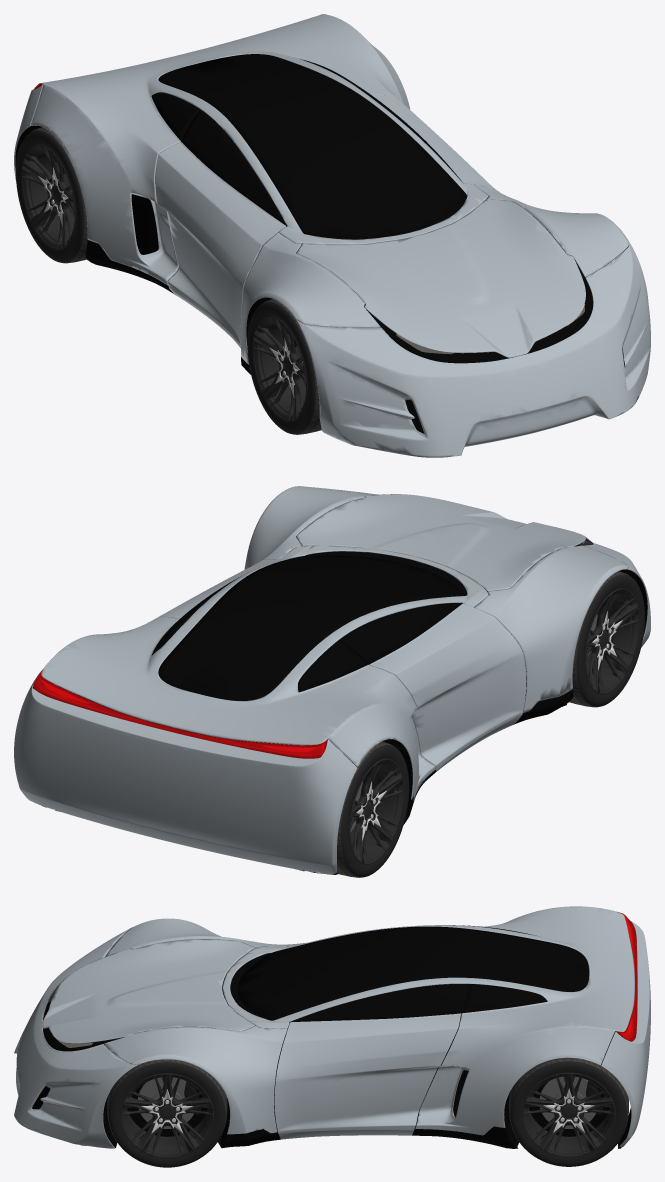
3 renders of one model, top to bottom at view 1: azimuth 30°, elevation 25°; view 2: azimuth 150°, elevation 25°; view 3: azimuth 270°, elevation 25°, orthographic. The views are drawn at different scales.
Parts seen in each view (by area): view 1: Cube.050_body_color_supra.002_0, Cube.046_body_color_supra.002_0, Cube.042_plasticShiny.001_0, Cube.043_body_color_supra.002_0, Cube.047_body_color_supra.002_0, Cube.049_body_color_supra.002_0, Cube.057_plasticShiny.001_0, Cube.039_blockers_0, rim_235.001_rims_0, rim_235.002_rims_0, tire_v001_Coll.001|Mesh5.004|Dupli|_rubber___tires.001_0, tire_v001_Coll.003|Mesh5.004|Dupli|_rubber___tires.001_0 (+2 smaller); view 2: Cube.048_body_color_supra.002_0, Cube.046_body_color_supra.002_0, Cube.042_plasticShiny.001_0, Cube.047_body_color_supra.002_0, Cube.049_body_color_supra.002_0, Cube.043_body_color_supra.002_0, Cube.057_plasticShiny.001_0, rim_235.001_rims_0, rim_235.002_rims_0, Cube.045_taillight_cover_0, tire_v001_Coll.003|Mesh5.004|Dupli|_rubber___tires.001_0, tire_v001_Coll.001|Mesh5.004|Dupli|_rubber___tires.001_0 (+7 smaller); view 3: Cube.046_body_color_supra.002_0, Cube.042_plasticShiny.001_0, Cube.047_body_color_supra.002_0, Cube.043_body_color_supra.002_0, Cube.049_body_color_supra.002_0, Cube.050_body_color_supra.002_0, Cube.057_plasticShiny.001_0, rim_235_rims_0, rim_235.003_rims_0, Cube.048_body_color_supra.002_0, tire_v001_Coll.002|Mesh5.004|Dupli|_rubber___tires.001_0, tire_v001_Coll|Mesh5.004|Dupli|_rubber___tires.001_0 (+12 smaller).
Boxes of the visible parts, box(x1,y1,x2,y2) form: Cube.050_body_color_supra.002_0: box(296, 240, 650, 457); Cube.046_body_color_supra.002_0: box(30, 14, 488, 285); Cube.042_plasticShiny.001_0: box(159, 54, 465, 237); Cube.043_body_color_supra.002_0: box(297, 198, 585, 357); Cube.047_body_color_supra.002_0: box(155, 95, 494, 348); Cube.049_body_color_supra.002_0: box(240, 184, 628, 364); Cube.057_plasticShiny.001_0: box(151, 59, 462, 225); Cube.039_blockers_0: box(131, 79, 596, 433); rim_235.001_rims_0: box(252, 315, 307, 421); rim_235.002_rims_0: box(21, 144, 75, 250); tire_v001_Coll.001|Mesh5.004|Dupli|_rubber___tires.001_0: box(247, 302, 315, 434); tire_v001_Coll.003|Mesh5.004|Dupli|_rubber___tires.001_0: box(16, 130, 84, 262); Cube.048_body_color_supra.002_0: box(14, 682, 357, 874); Cube.046_body_color_supra.002_0: box(31, 545, 488, 801); Cube.042_plasticShiny.001_0: box(159, 555, 465, 700); Cube.047_body_color_supra.002_0: box(159, 559, 526, 773); Cube.049_body_color_supra.002_0: box(244, 486, 628, 712); Cube.043_body_color_supra.002_0: box(297, 494, 585, 591); Cube.057_plasticShiny.001_0: box(151, 577, 462, 692); rim_235.001_rims_0: box(585, 588, 639, 694); rim_235.002_rims_0: box(349, 758, 403, 864); Cube.045_taillight_cover_0: box(33, 670, 327, 758); tire_v001_Coll.003|Mesh5.004|Dupli|_rubber___tires.001_0: box(341, 745, 409, 877); tire_v001_Coll.001|Mesh5.004|Dupli|_rubber___tires.001_0: box(576, 574, 644, 706); Cube.046_body_color_supra.002_0: box(223, 906, 634, 1135); Cube.042_plasticShiny.001_0: box(237, 926, 588, 1020); Cube.047_body_color_supra.002_0: box(274, 942, 460, 1139); Cube.043_body_color_supra.002_0: box(42, 939, 254, 1043); Cube.049_body_color_supra.002_0: box(104, 918, 287, 1134); Cube.050_body_color_supra.002_0: box(14, 929, 140, 1148); Cube.057_plasticShiny.001_0: box(290, 925, 547, 1022); rim_235_rims_0: box(120, 1073, 213, 1157); rim_235.003_rims_0: box(522, 1072, 615, 1157); Cube.048_body_color_supra.002_0: box(601, 920, 650, 1147); tire_v001_Coll.002|Mesh5.004|Dupli|_rubber___tires.001_0: box(510, 1061, 627, 1166); tire_v001_Coll|Mesh5.004|Dupli|_rubber___tires.001_0: box(109, 1062, 225, 1167).
Bounding box in the file's own units: 2.07 × 1.04 × 3.98.
14 materials, 1 textured.
